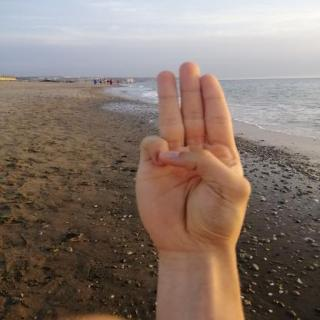THA: (118, 54, 264, 261)
